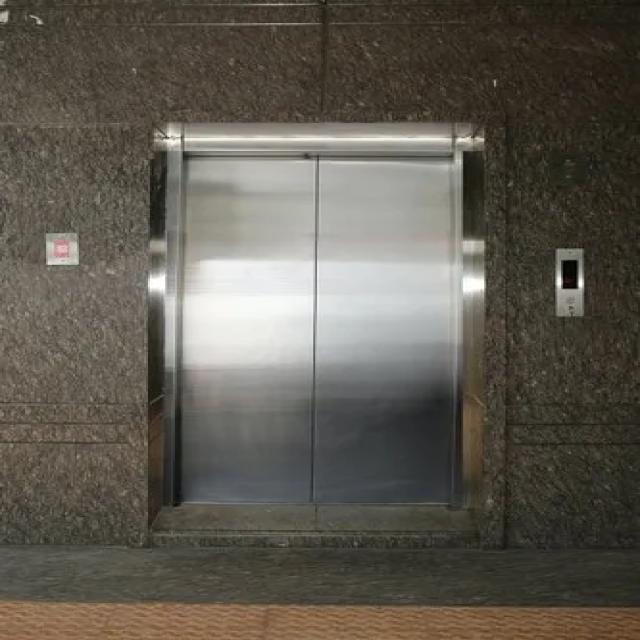elevator: (145, 106, 597, 558)
